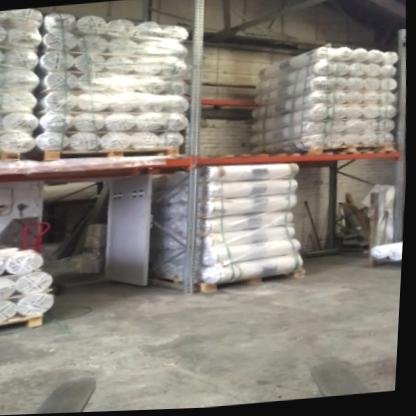vertical_damage: (187, 260, 206, 289)
